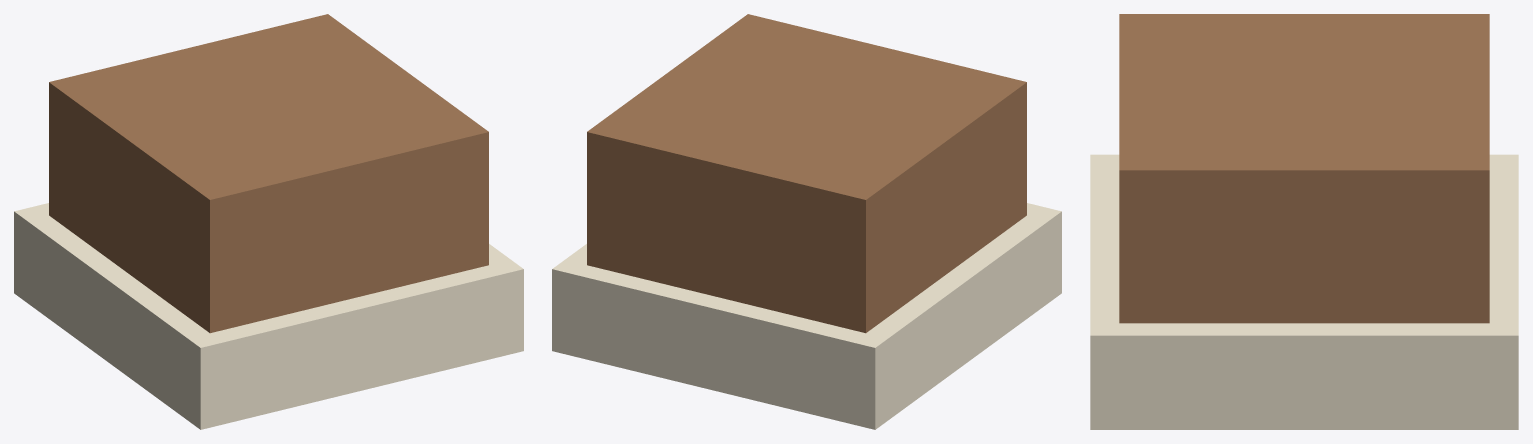
Rendered from aviador_manga_inf.glb.
The picture shows the model from 3 angles, left to right: view 1: azimuth 30°, elevation 25°; view 2: azimuth 150°, elevation 25°; view 3: azimuth 270°, elevation 25°; orthographic projection. The views are drawn at different scales.
Visible parts, largest first — view 1: aviador_manga_inf; view 2: aviador_manga_inf; view 3: aviador_manga_inf.
Part boxes in pixels (x1,y1,x2,y2): aviador_manga_inf: (14,14,523,429); aviador_manga_inf: (552,14,1061,429); aviador_manga_inf: (1090,14,1518,429).
Bounding box in the file's own units: 0.33 × 0.21 × 0.33.
